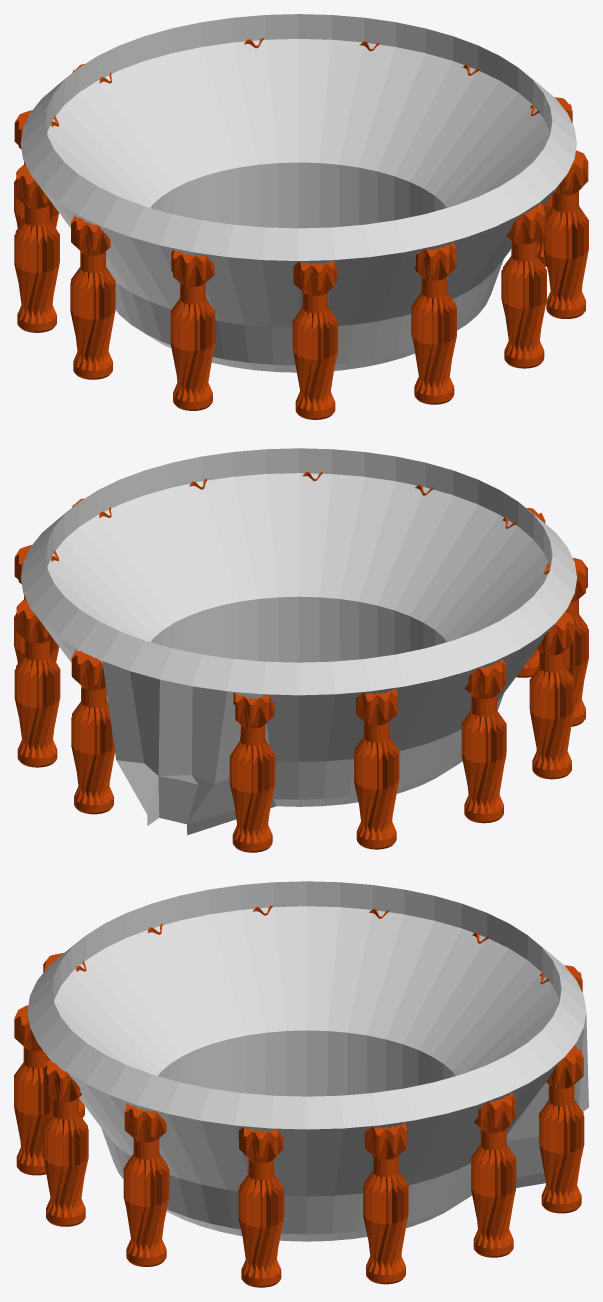
File: Arena.fbx
3 views of the same model, one above another, from view 1: azimuth 30°, elevation 25°; view 2: azimuth 150°, elevation 25°; view 3: azimuth 270°, elevation 25° (orthographic).
Visible parts, largest first — view 1: Torus; view 2: Torus; view 3: Torus.
Boxes of the visible parts, x1,y1,x2,y2 form: Torus: [14, 14, 588, 419]; Torus: [14, 448, 588, 852]; Torus: [14, 881, 588, 1287].
Bounding box in the file's own units: 5015 × 1723 × 4984.
